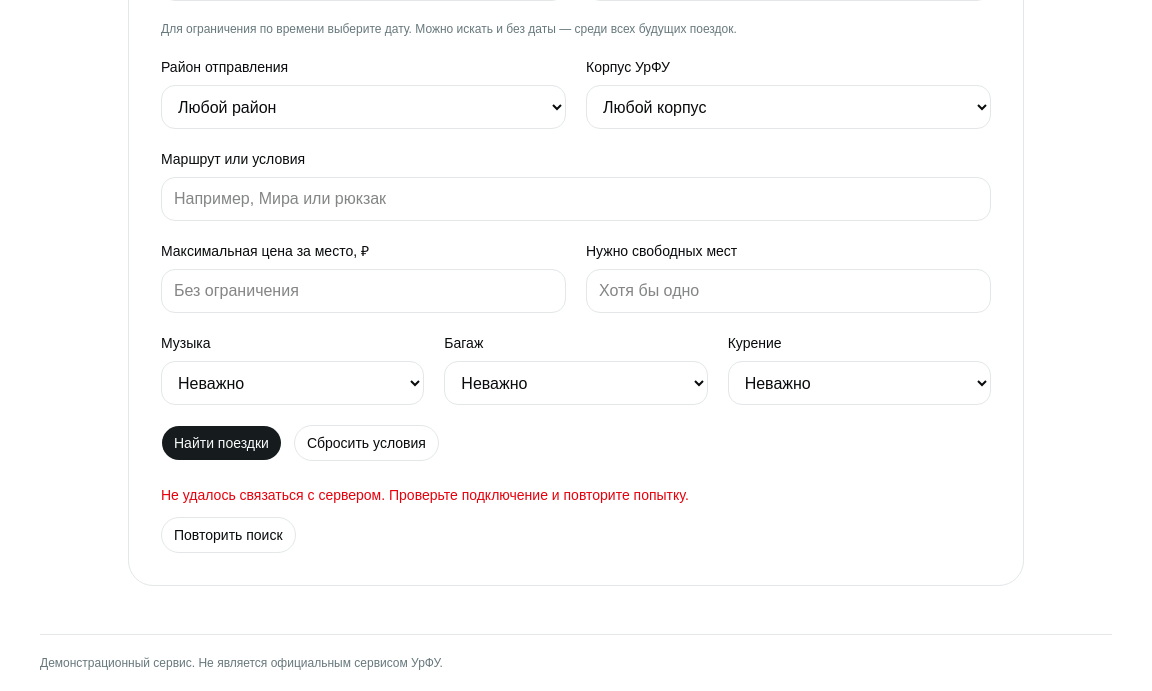
Test: Форма публичного поиска › позволяет повторить поиск после сетевой ошибки
(page scrolled)
Check: the message "Не удалось связаться с сервером. Проверьте подключение и повторите попытку." is shown, box x1=161 y1=487 x2=689 y2=503
Click the button "Повторить поиск": click(228, 535) x1=161 y1=517 x2=296 y2=553
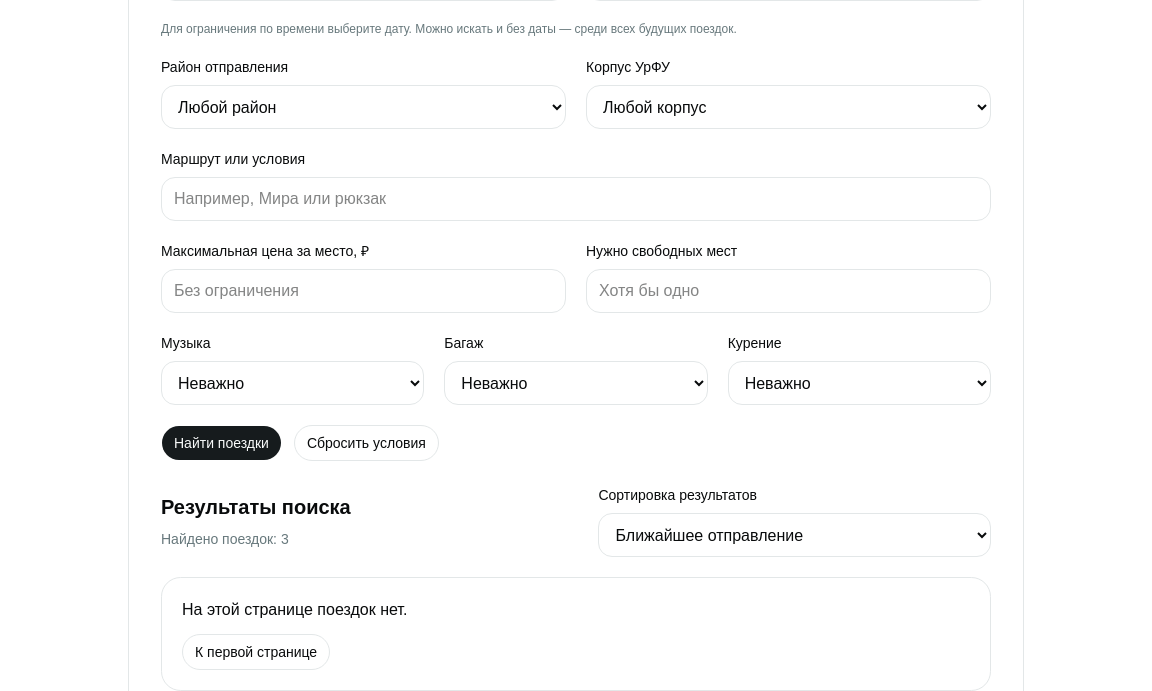
Check: the text "Найдено поездок: 3" is shown, box x1=161 y1=531 x2=289 y2=547
